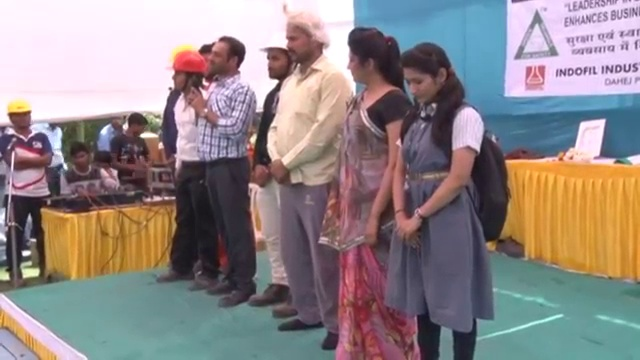helmet: (162, 46, 206, 76), (259, 30, 289, 54), (5, 99, 34, 117)
helmet_off: (397, 37, 458, 115), (341, 24, 397, 94), (281, 9, 330, 65), (205, 34, 245, 84), (61, 138, 90, 173), (197, 41, 216, 80), (127, 113, 148, 138), (92, 151, 114, 174), (110, 117, 126, 131)
helmet_on: (162, 48, 207, 97), (260, 30, 286, 83), (5, 98, 34, 132)
person: (386, 30, 512, 360), (329, 30, 415, 360), (264, 22, 355, 333), (186, 45, 259, 306), (250, 27, 298, 319), (158, 47, 211, 293), (0, 98, 50, 282), (59, 138, 133, 196), (111, 113, 152, 187), (31, 123, 63, 198), (97, 115, 126, 153)
